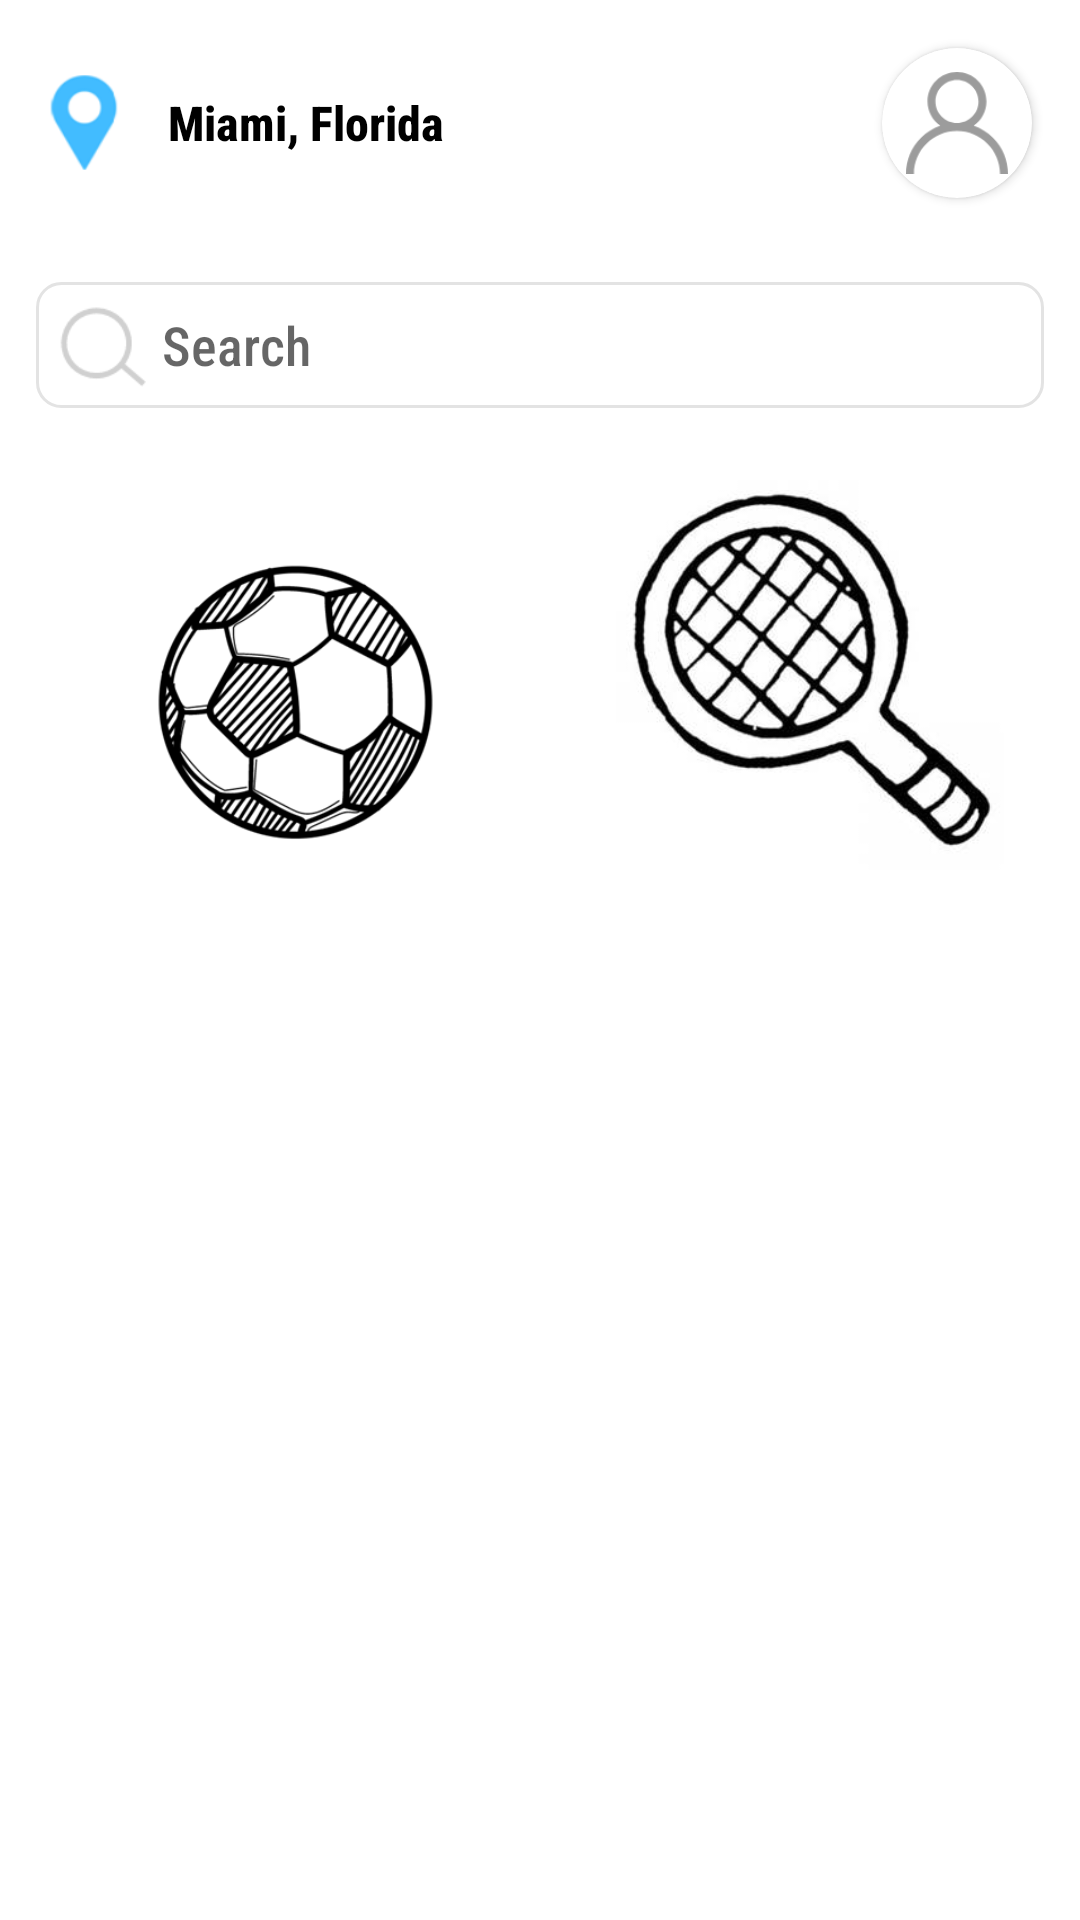

Point at icon controls on the screen. Image size 1080 × 1920, points as (x,y).
map: (83,122)
user: (969,127)
